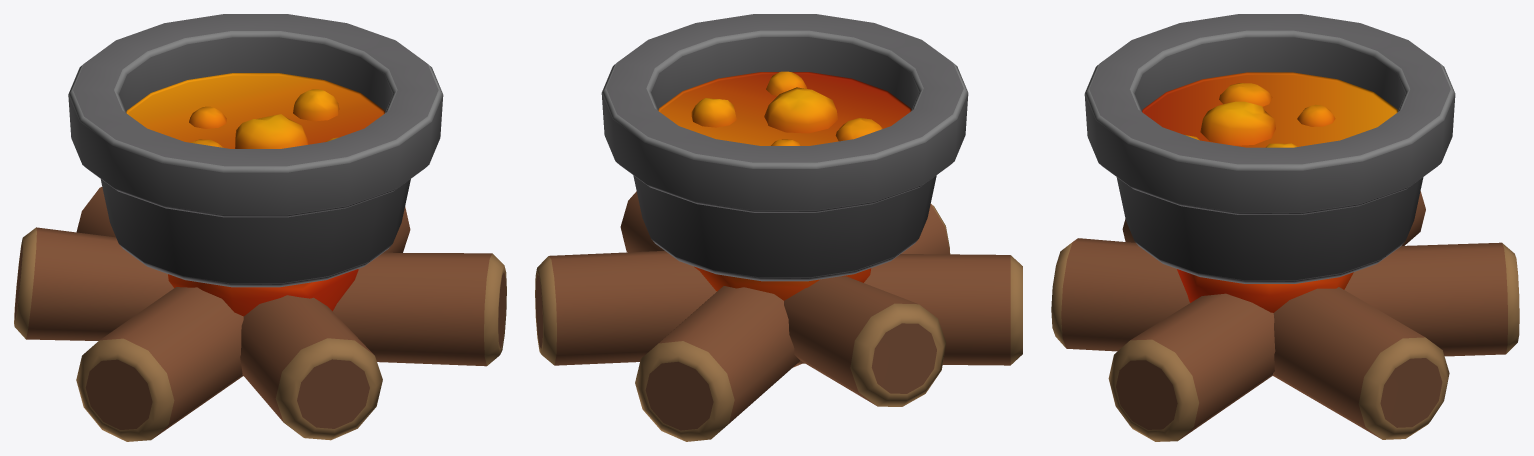
Rendered from Cook_1.fbx.
3 renders of one model, left to right at view 1: azimuth 30°, elevation 25°; view 2: azimuth 150°, elevation 25°; view 3: azimuth 270°, elevation 25°, orthographic. The views are drawn at different scales.
Visible parts, largest first — view 1: Cook_1; view 2: Cook_1; view 3: Cook_1.
Part boxes in pixels (x1=…): Cook_1: x1=14, y1=14, x2=506, y2=441; Cook_1: x1=535, y1=14, x2=1022, y2=441; Cook_1: x1=1051, y1=14, x2=1519, y2=441.
Bounding box in the file's own units: 122 × 76.09 × 121.
